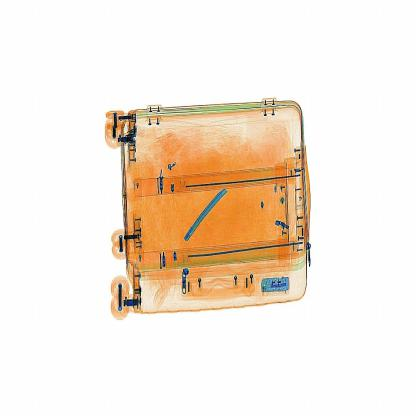pliers: (173, 176, 230, 247)
